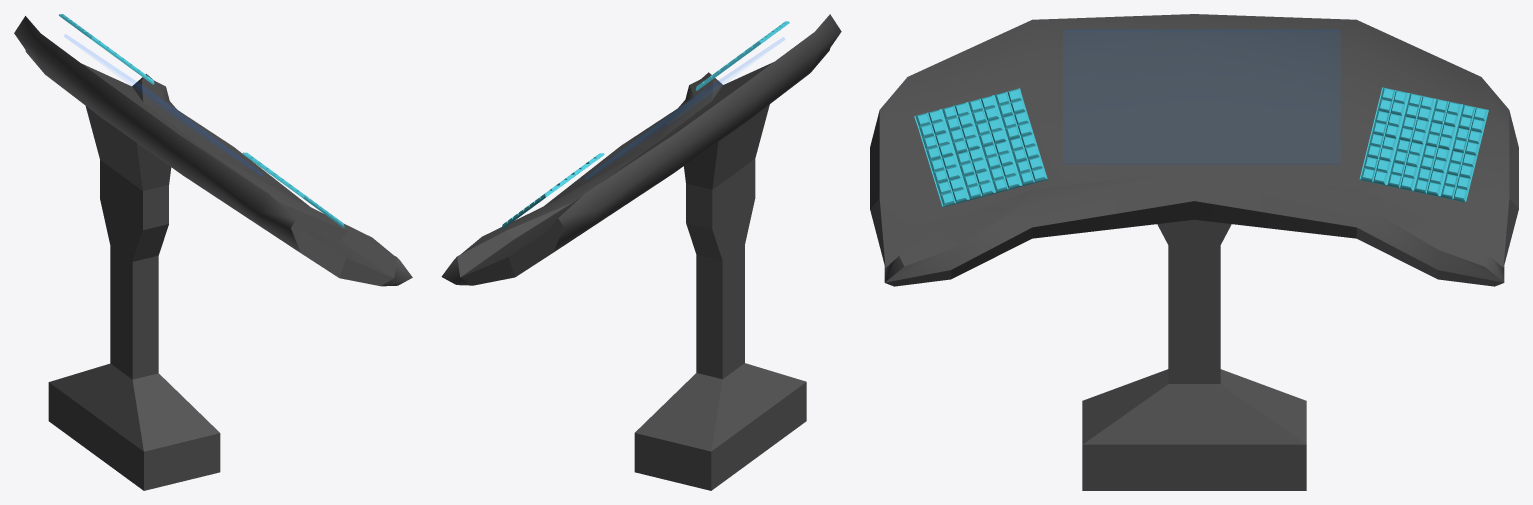
Rendered from Console.fbx.
3 views of the same model, side by side, from view 1: azimuth 30°, elevation 25°; view 2: azimuth 150°, elevation 25°; view 3: azimuth 270°, elevation 25° (orthographic). The views are drawn at different scales.
Visible parts, largest first — view 1: Console2, Holoscreen, Left_keyboard, Right_Keyboard; view 2: Console2, Holoscreen, Right_Keyboard, Left_keyboard; view 3: Console2, Left_keyboard, Right_Keyboard.
Boxes of the visible parts, left/top/right/bottom form: Console2: left=14, top=16, right=412, bottom=490; Holoscreen: left=64, top=34, right=263, bottom=175; Left_keyboard: left=242, top=152, right=344, bottom=227; Right_Keyboard: left=59, top=14, right=154, bottom=84; Console2: left=441, top=14, right=841, bottom=490; Holoscreen: left=585, top=37, right=784, bottom=179; Right_Keyboard: left=501, top=153, right=604, bottom=229; Left_keyboard: left=695, top=21, right=789, bottom=90; Console2: left=870, top=14, right=1518, bottom=490; Left_keyboard: left=914, top=88, right=1047, bottom=207; Right_Keyboard: left=1359, top=87, right=1488, bottom=202.
Bounding box in the file's own units: 2.99 × 5.76 × 7.72.
